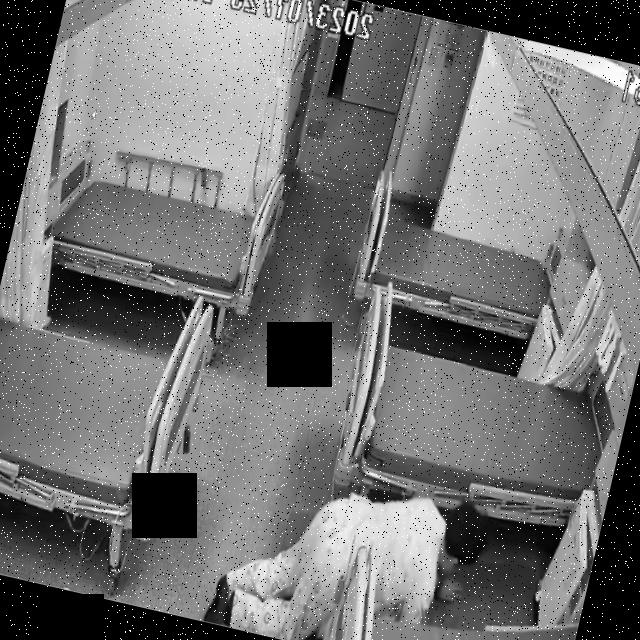bed: (0, 252, 221, 540), (328, 327, 618, 535), (29, 149, 284, 318), (352, 202, 558, 340)
fall: (200, 450, 489, 640)
patient: (202, 451, 490, 640)
